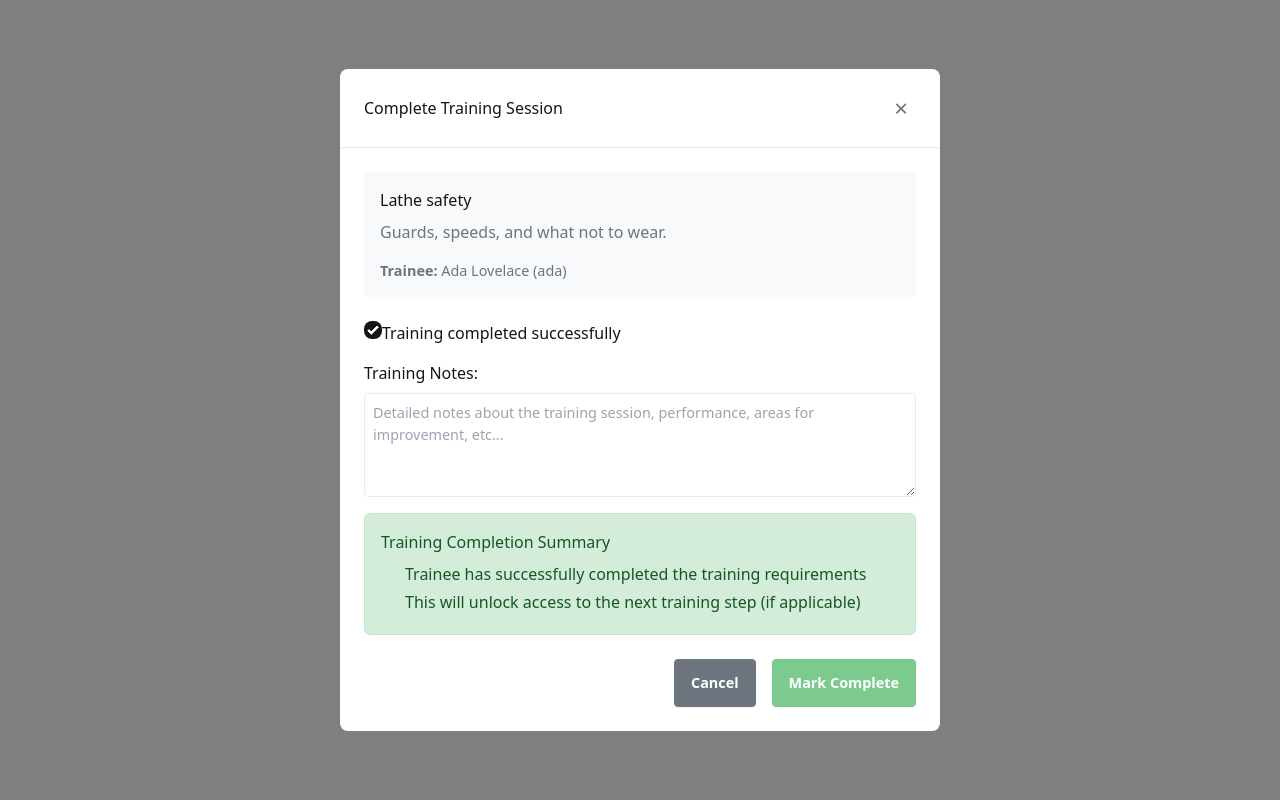
Test case: what happens after the request › shows the server's reason for a refusal, and does not announce completion
Replace the text in the text box with id "notes" with "Signed off." at (640, 445), box [364,393,916,497]
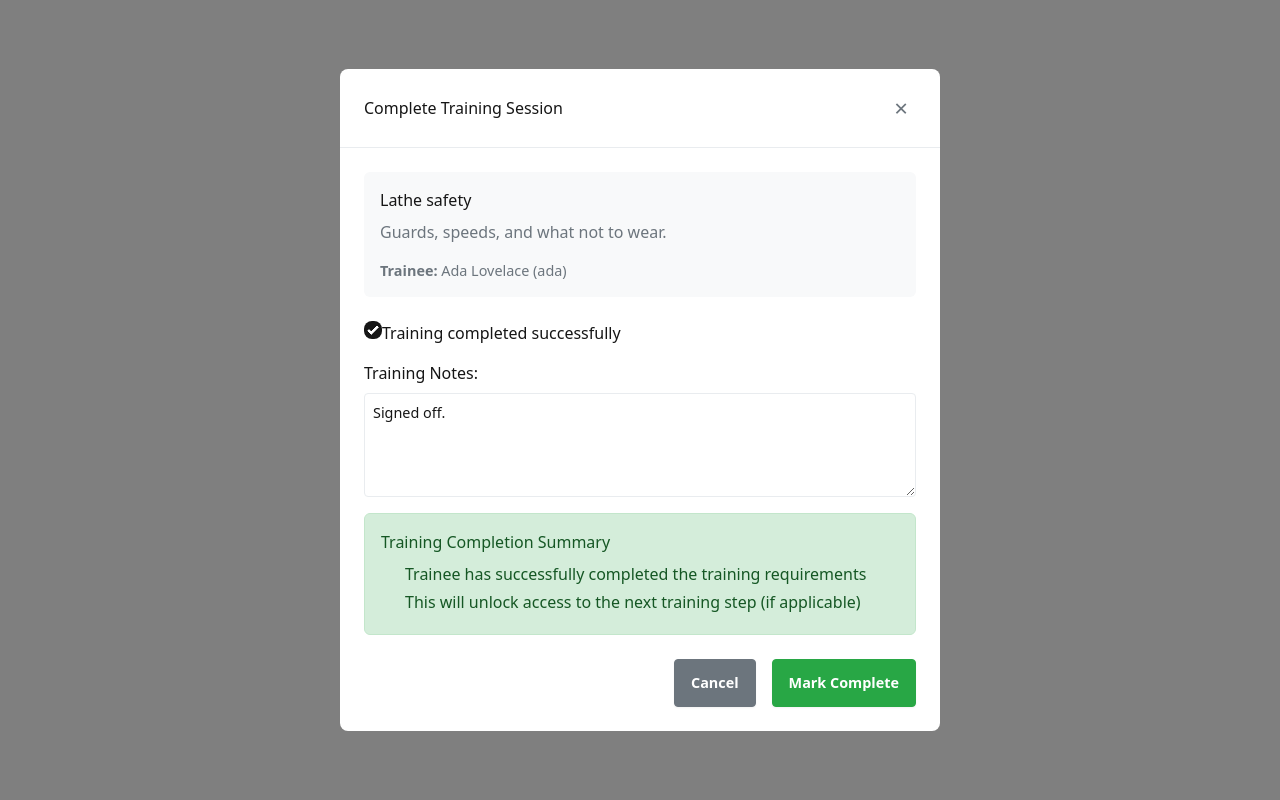
Submit the form, box [364,321,916,707]
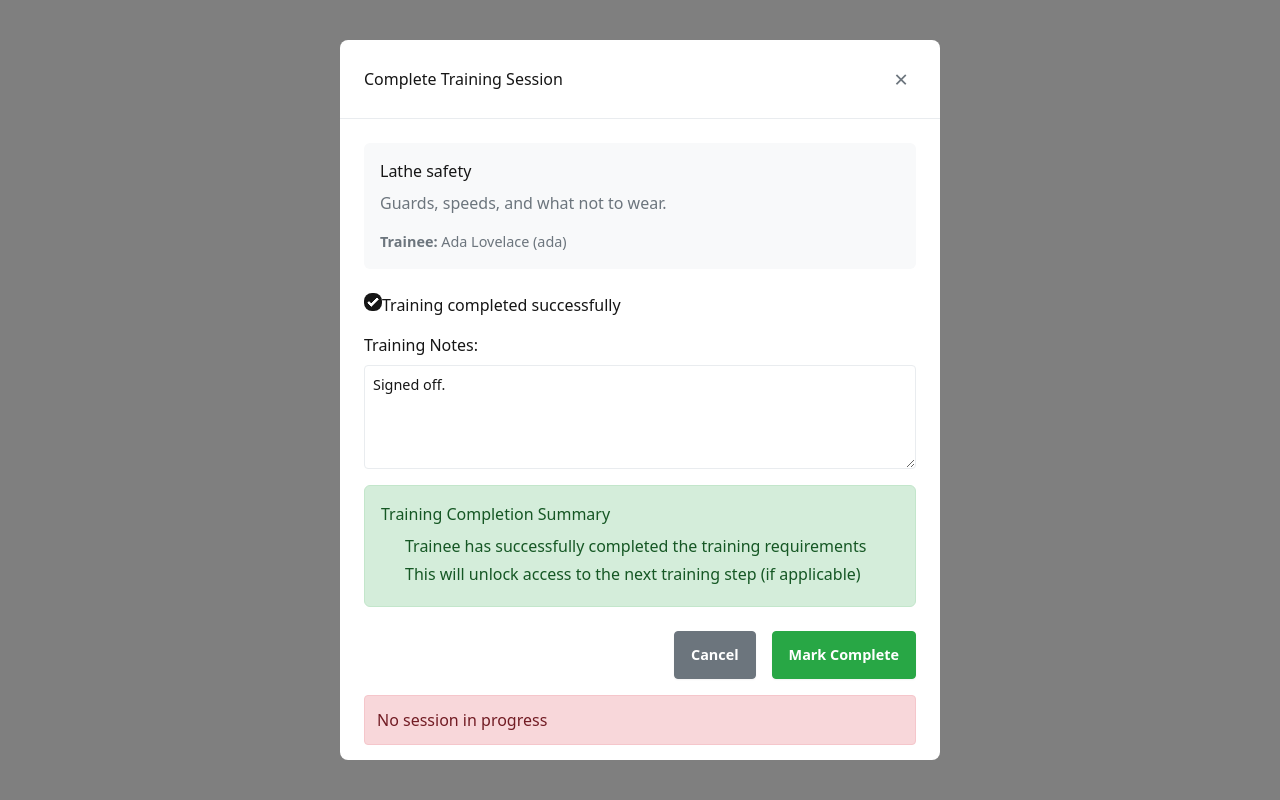
Expected: the text with class "error-message" reads "No session in progress", [377,709,547,731]
